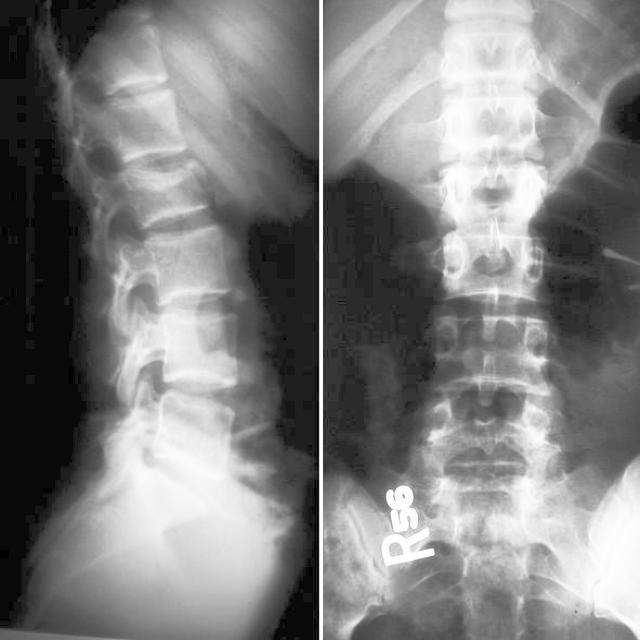Compression-Crush Fracutre: (107, 163, 222, 224)
